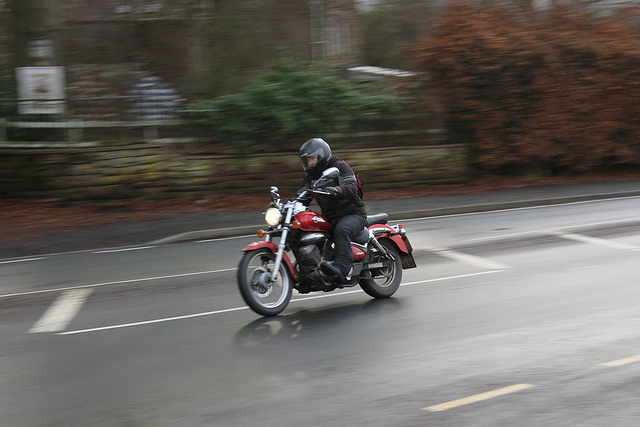Bike: (254, 189, 412, 306)
